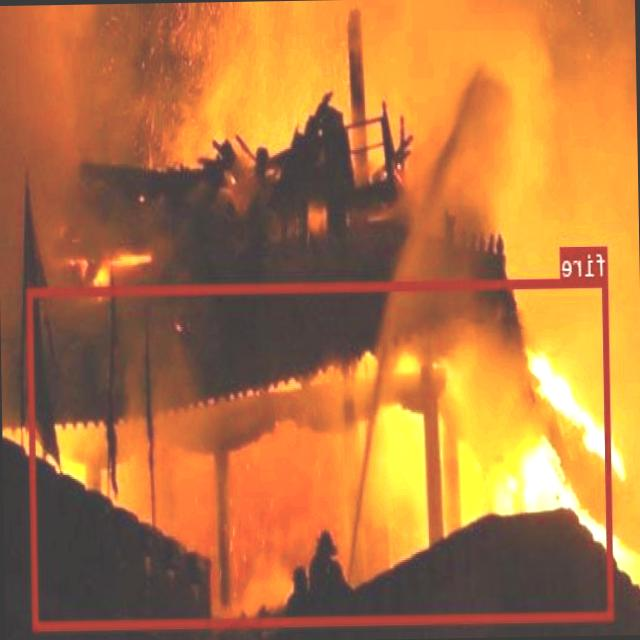fire: (28, 276, 615, 628)
